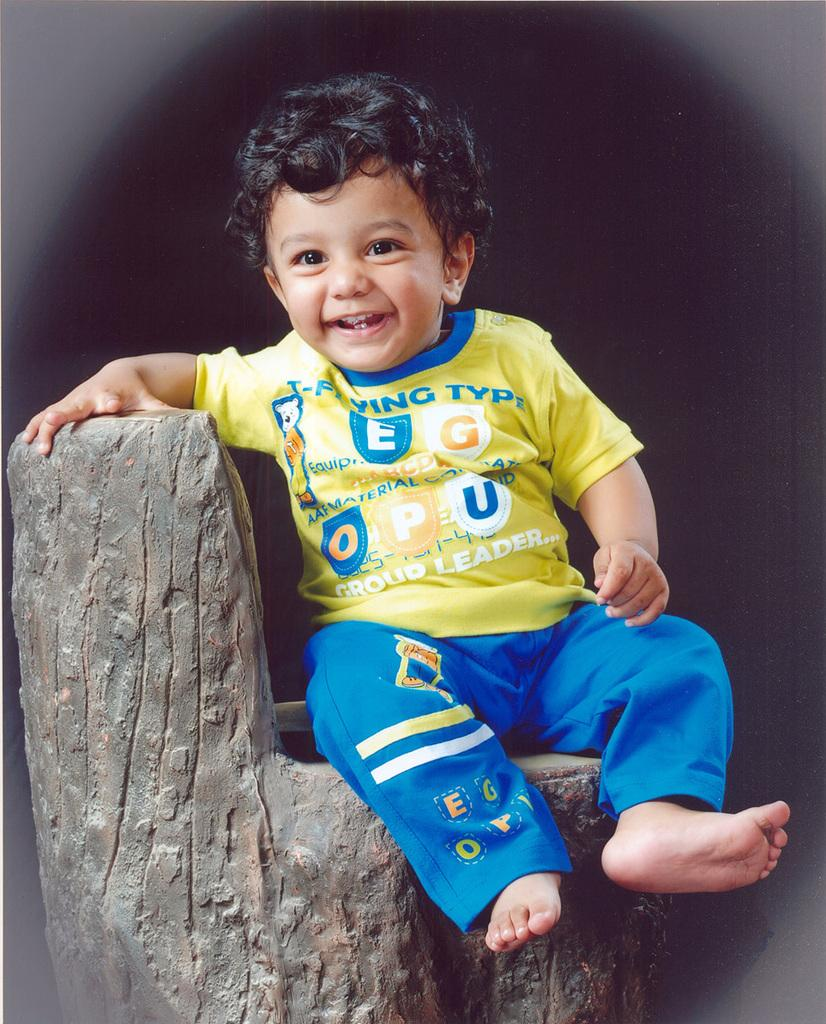Sem Máscara: (267, 141, 444, 373)
